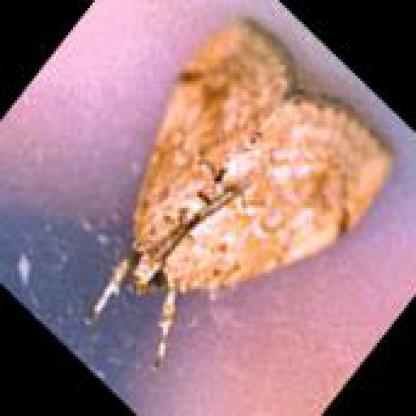Leaf Webber: (78, 13, 405, 372)
